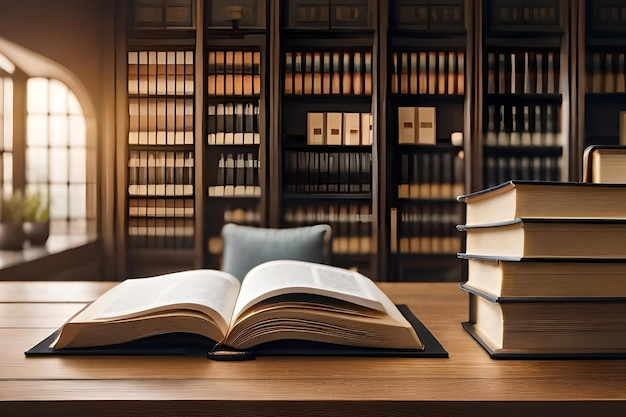book: (55, 266, 427, 356), (62, 274, 421, 351)
